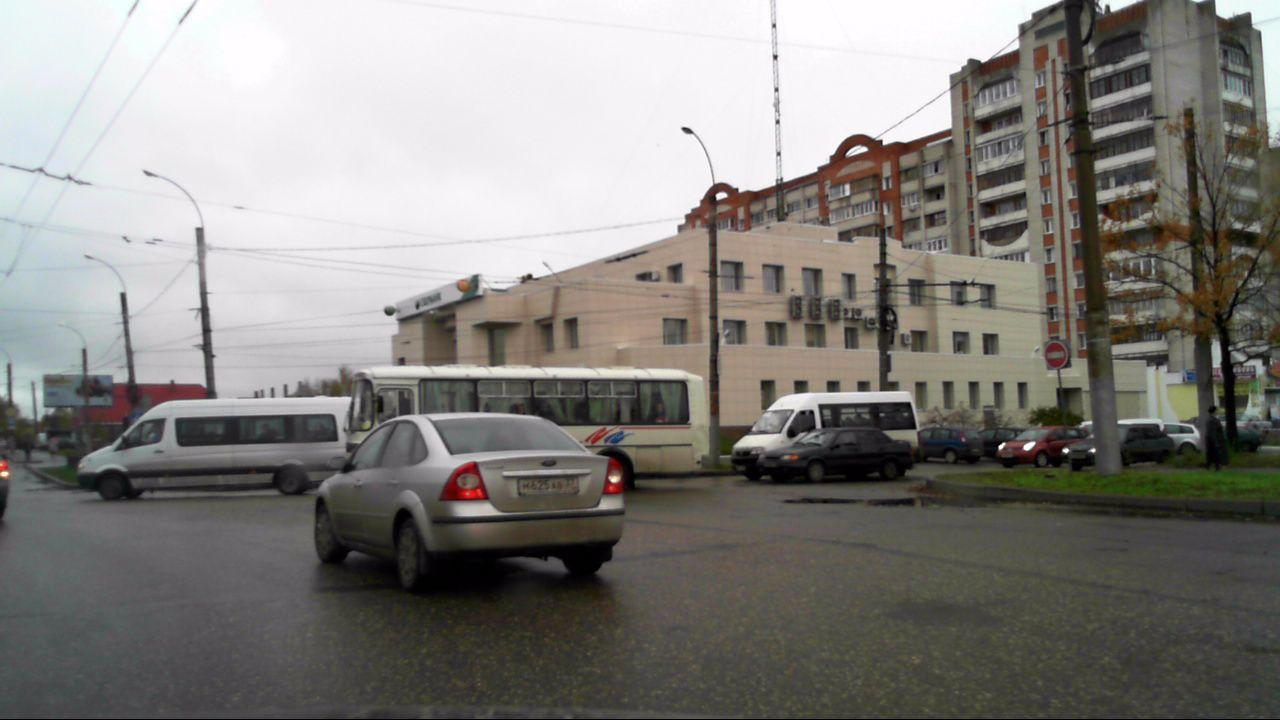road_sign: (1044, 341, 1071, 371)
